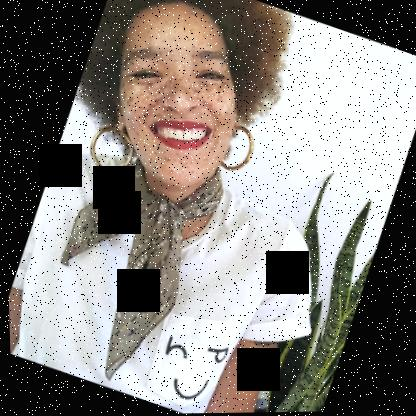Female: (78, 0, 268, 202)
